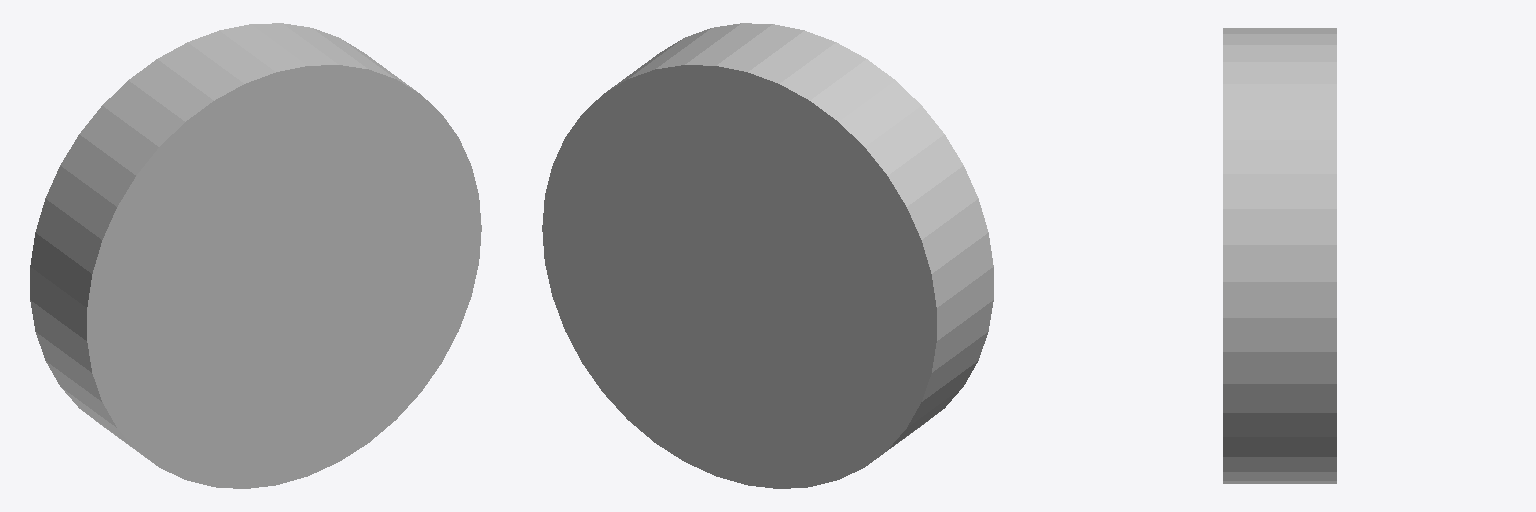
Rendered from eye_inside.obj.
The picture shows the model from 3 angles: view 1: azimuth 30°, elevation 25°; view 2: azimuth 150°, elevation 25°; view 3: azimuth 270°, elevation 25°; orthographic projection.
Parts seen in each view (by area): view 1: MeshBody10; view 2: MeshBody10; view 3: MeshBody10.
Part boxes in pixels (x1,y1,x2,y2): MeshBody10: (30,23,481,488); MeshBody10: (542,23,993,488); MeshBody10: (1223,28,1336,483).
Bounding box in the file's own units: 7.99 × 7.99 × 2.